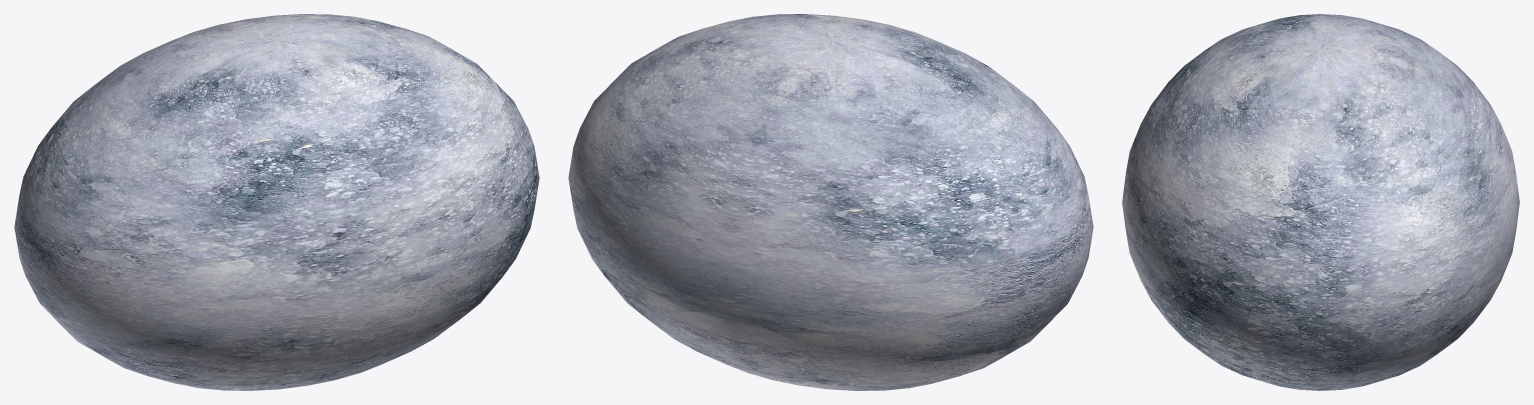
Rendered from varuna.gltf.
The picture shows the model from 3 angles, left to right: view 1: azimuth 30°, elevation 25°; view 2: azimuth 150°, elevation 25°; view 3: azimuth 270°, elevation 25°; orthographic projection. The views are drawn at different scales.
Parts seen in each view (by area): view 1: Haumea.001; view 2: Haumea.001; view 3: Haumea.001.
Part boxes in pixels (box(x1,y1,x2,y2)): Haumea.001: box(14, 14, 539, 390); Haumea.001: box(568, 14, 1093, 390); Haumea.001: box(1122, 14, 1519, 390).
Size of the model in its own units: 909 by 585 by 690.
Materials: 1 (1 with a texture image).
